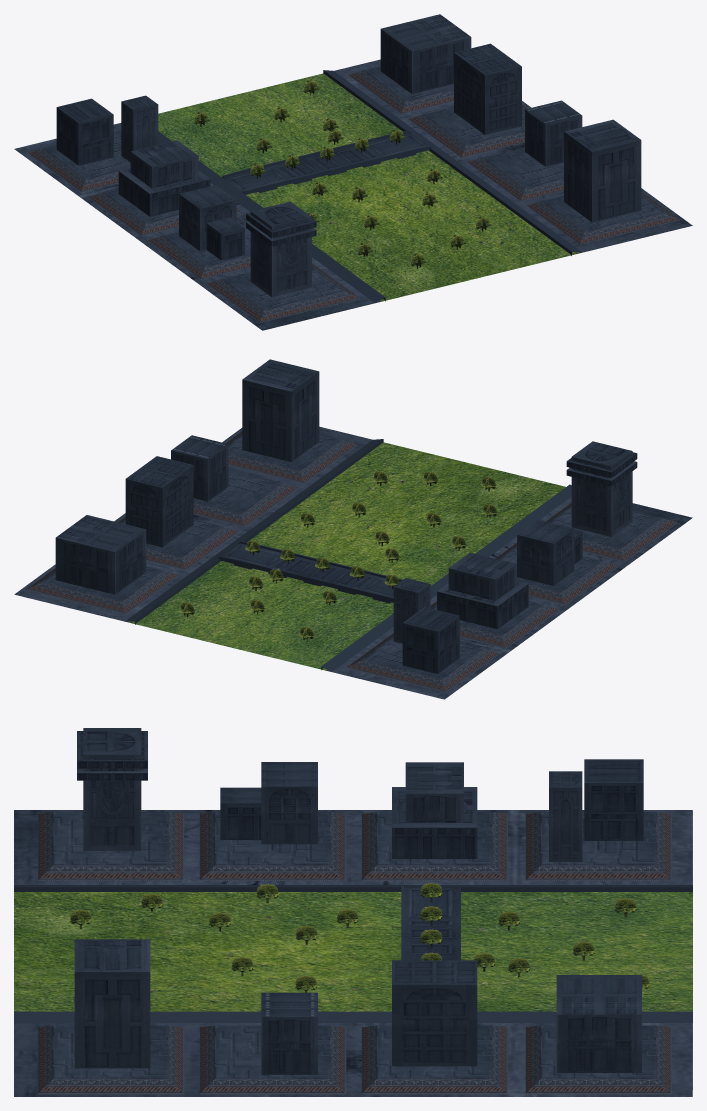
File: Parkblok4.FBX
The picture shows the model from 3 angles, top to bottom: view 1: azimuth 30°, elevation 25°; view 2: azimuth 150°, elevation 25°; view 3: azimuth 270°, elevation 25°; orthographic projection. The views are drawn at different scales.
Visible parts, largest first — view 1: polySurface140; view 2: polySurface140; view 3: polySurface140.
Part boxes in pixels (x1,y1,x2,y2): polySurface140: [14, 14, 692, 330]; polySurface140: [14, 359, 692, 699]; polySurface140: [14, 728, 692, 1096].
Size of the model in its own units: 43.8 by 7.65 by 43.79.
3 materials, 3 textured.
